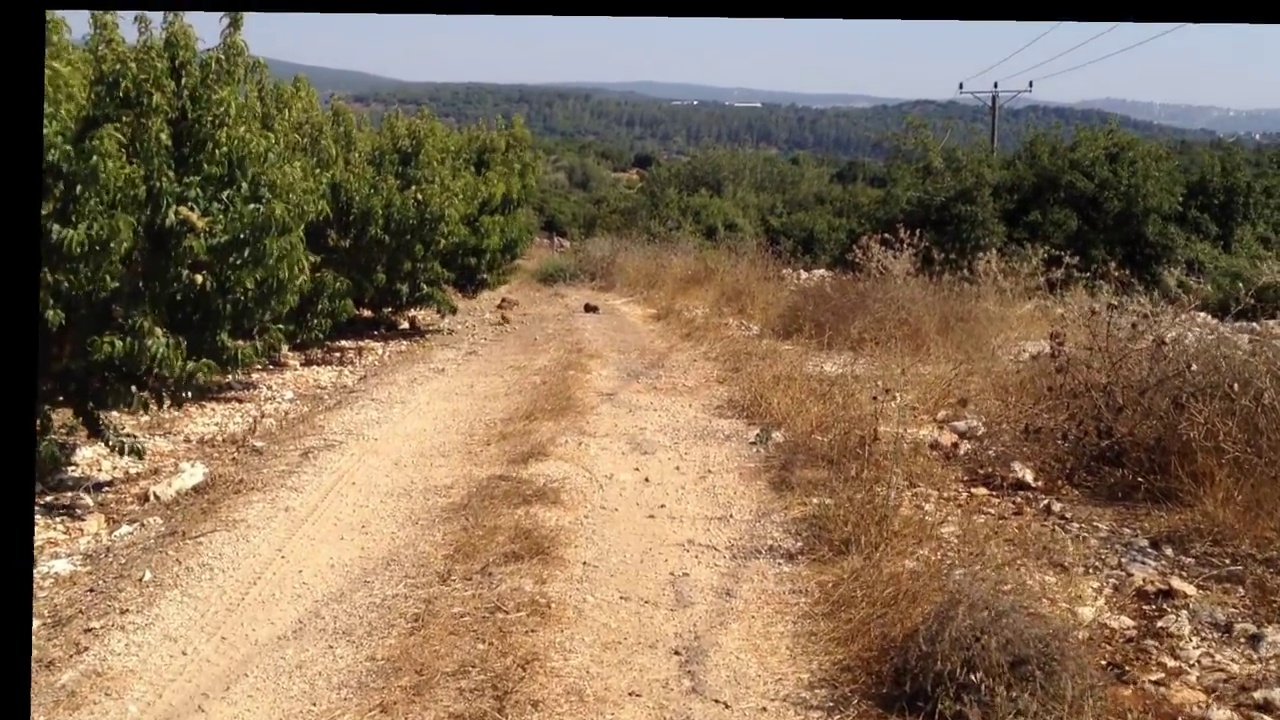Rock Hyrex: (493, 294, 522, 314), (581, 302, 602, 314)
